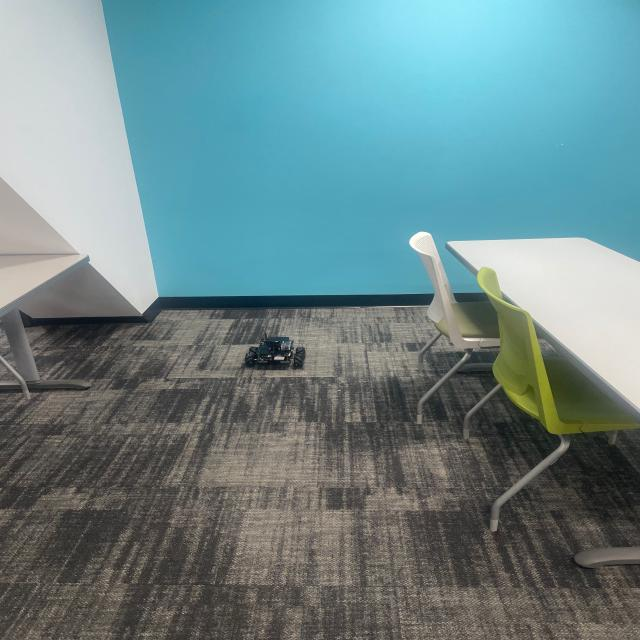ArduinoCar3: (250, 328, 306, 374)
